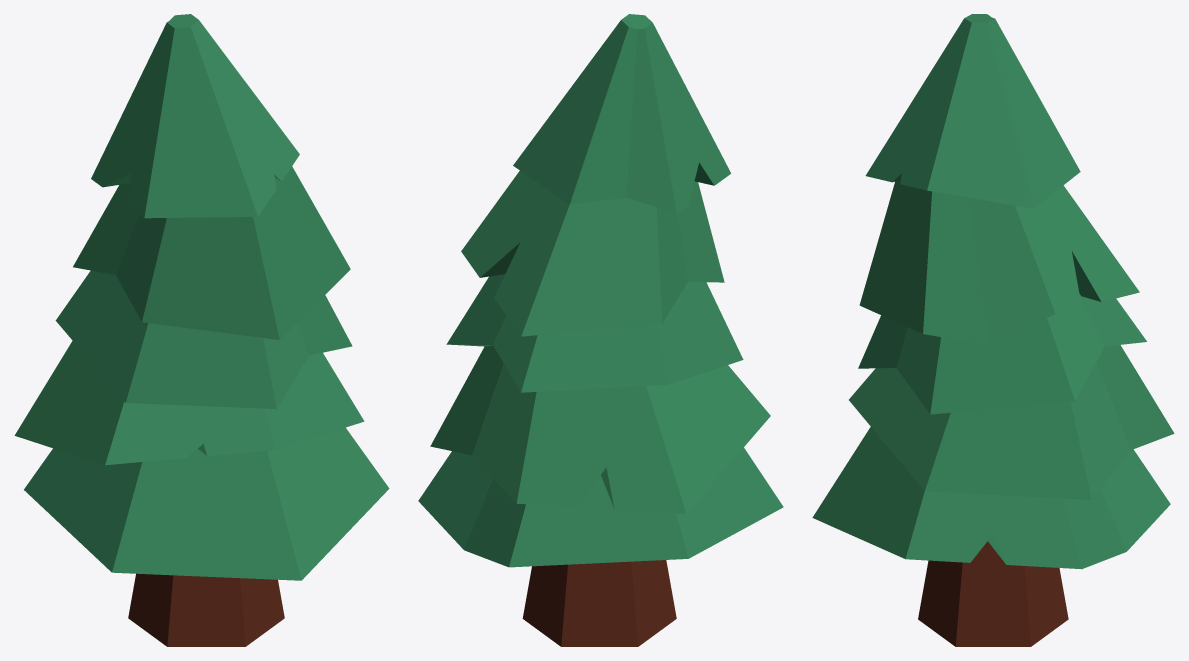
The model's file is pinetree1.fbx.
3 renders of one model, left to right at view 1: azimuth 30°, elevation 25°; view 2: azimuth 150°, elevation 25°; view 3: azimuth 270°, elevation 25°, orthographic. The views are drawn at different scales.
Visible parts, largest first — view 1: Cylinder.005; view 2: Cylinder.005; view 3: Cylinder.005.
Boxes of the visible parts, x1,y1,x2,y2 form: Cylinder.005: [14, 14, 389, 646]; Cylinder.005: [418, 14, 783, 646]; Cylinder.005: [812, 14, 1174, 646].
Size of the model in its own units: 327 by 280 by 586.
